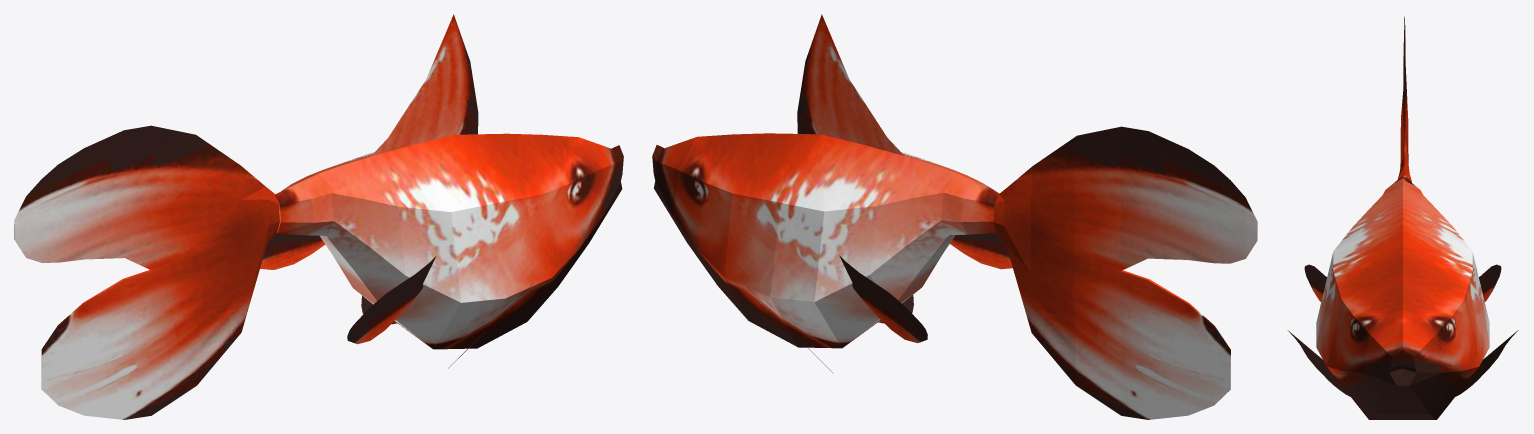
File: Goldfish.obj
The picture shows the model from 3 angles, left to right: view 1: azimuth 30°, elevation 25°; view 2: azimuth 150°, elevation 25°; view 3: azimuth 270°, elevation 25°; orthographic projection. The views are drawn at different scales.
Parts seen in each view (by area): view 1: ID18, ID17, ID35, ID3, ID53; view 2: ID18, ID17, ID35, ID53, ID3; view 3: ID17, ID18, ID62, ID44, ID53, ID3.
Part boxes in pixels (left/top/right/bottom): ID18: left=14, top=125, right=279, bottom=419; ID17: left=275, top=133, right=623, bottom=349; ID35: left=371, top=14, right=478, bottom=156; ID3: left=347, top=256, right=436, bottom=344; ID53: left=260, top=233, right=325, bottom=269; ID18: left=993, top=126, right=1257, bottom=419; ID17: left=652, top=133, right=999, bottom=348; ID35: left=797, top=14, right=904, bottom=155; ID53: left=839, top=255, right=927, bottom=343; ID3: left=950, top=232, right=1012, bottom=269; ID17: left=1316, top=176, right=1489, bottom=419; ID18: left=1397, top=16, right=1411, bottom=182; ID62: left=1287, top=330, right=1350, bottom=396; ID44: left=1455, top=330, right=1518, bottom=396; ID53: left=1479, top=264, right=1501, bottom=301; ID3: left=1304, top=264, right=1326, bottom=301.
Bounding box in the file's own units: 152 × 79.1 × 59.05.
Materials: 7 (7 with a texture image).
